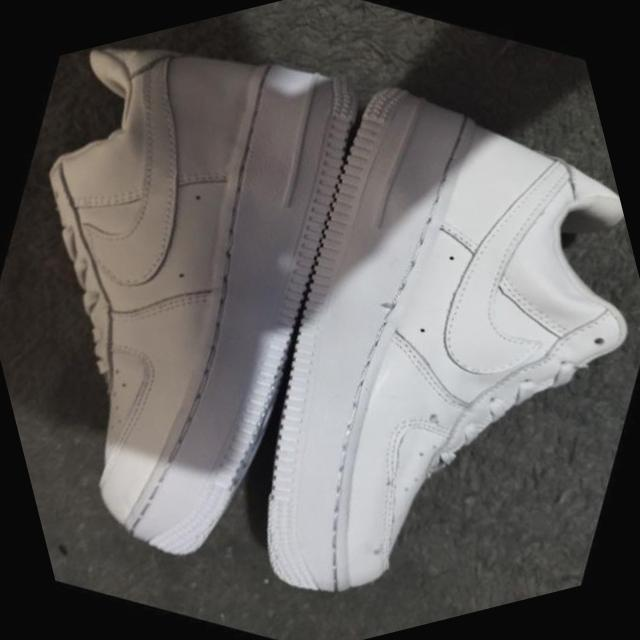nike_fake_airforce: (119, 19, 640, 640), (0, 0, 478, 615)
